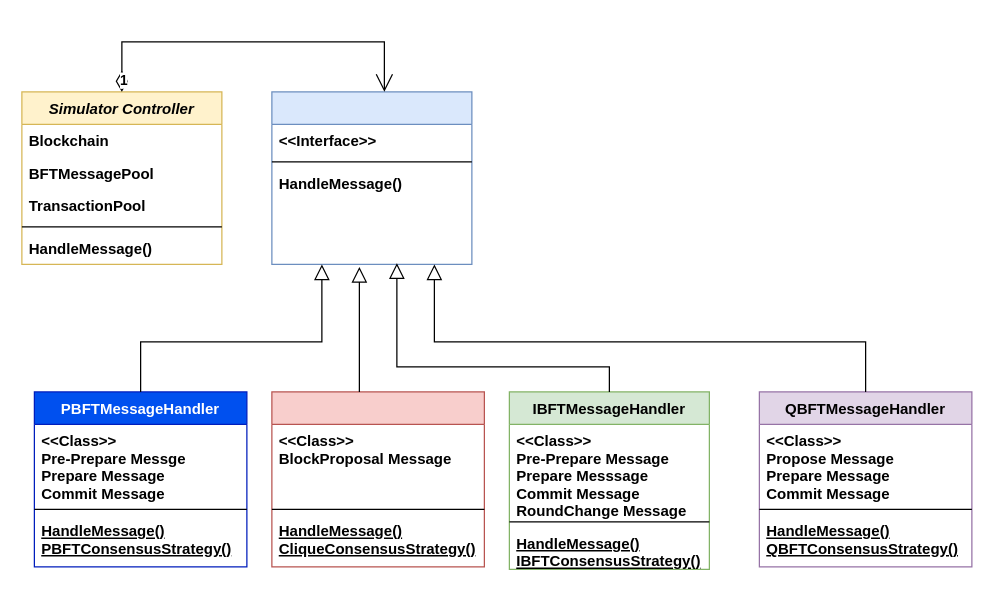
Image size: 994x595. Some labels were removed from this diagram. The box of each missing label's shape, as (x1, y1, x2, y2) in pixels:
BFTMessageHandler: (271, 91, 472, 264)
CliqueMessageHandler: (271, 391, 484, 567)
